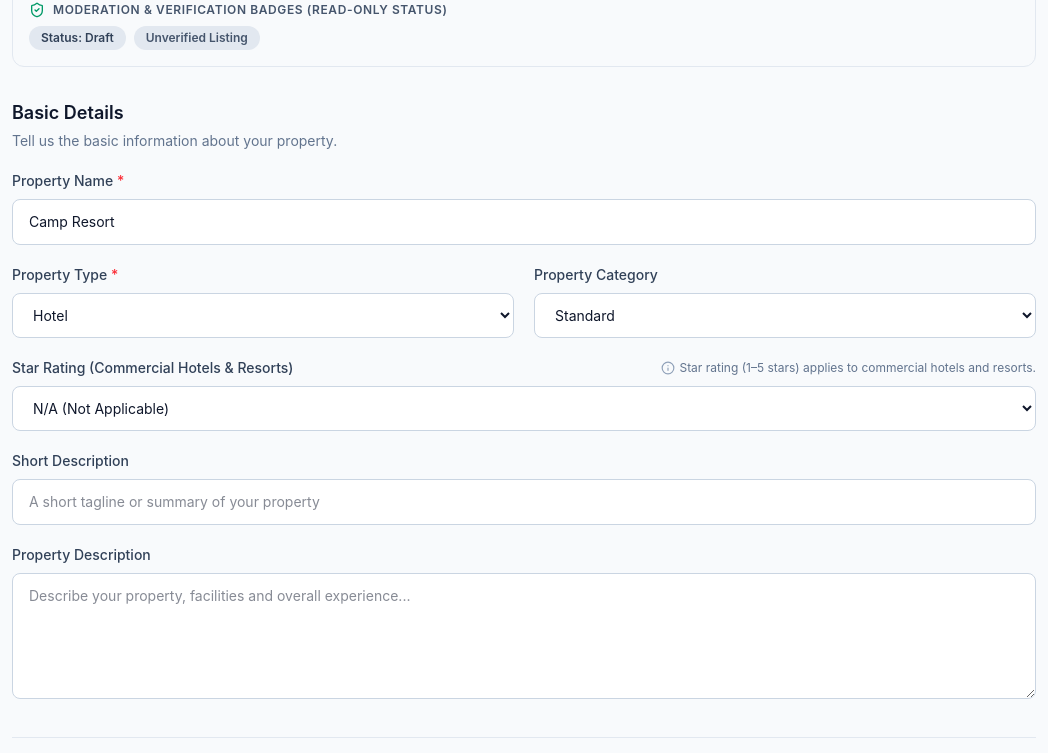
Test: Property Type State Reset Rules › resets total floors to 0 when changing property type to Tent
This screenshot has width=1048, height=753.
Select "Tent" in the dropdown labelled "Property Type *": (263, 316) [12,293,514,338]
(page scrolled)
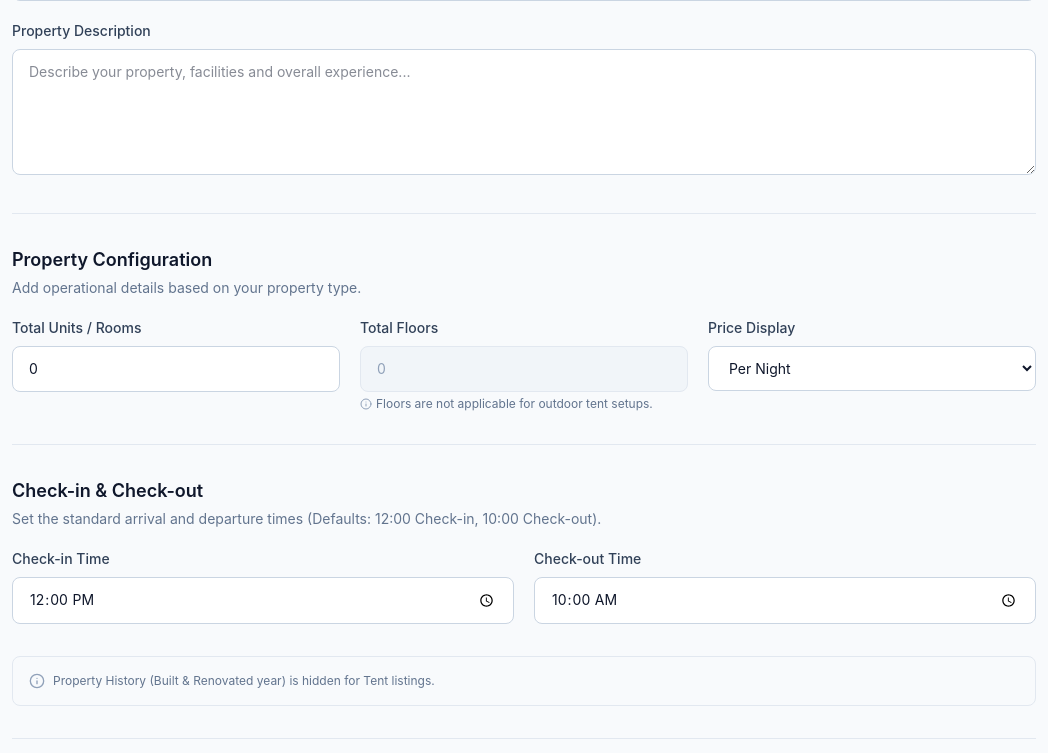
Now the number field labelled "Total Floors" is disabled, box [360,346,688,392]
Now the number field labelled "Total Floors" holds "0", box [360,346,688,392]
